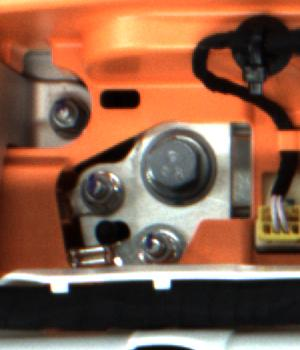nut_b: (139, 128, 220, 209)
screw_s: (46, 98, 91, 141), (82, 172, 123, 210), (141, 225, 174, 264)
